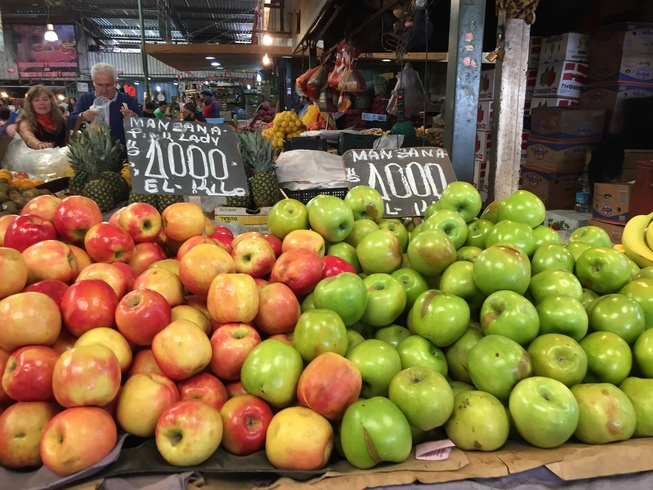precio: (125, 115, 249, 204), (344, 146, 464, 226)
